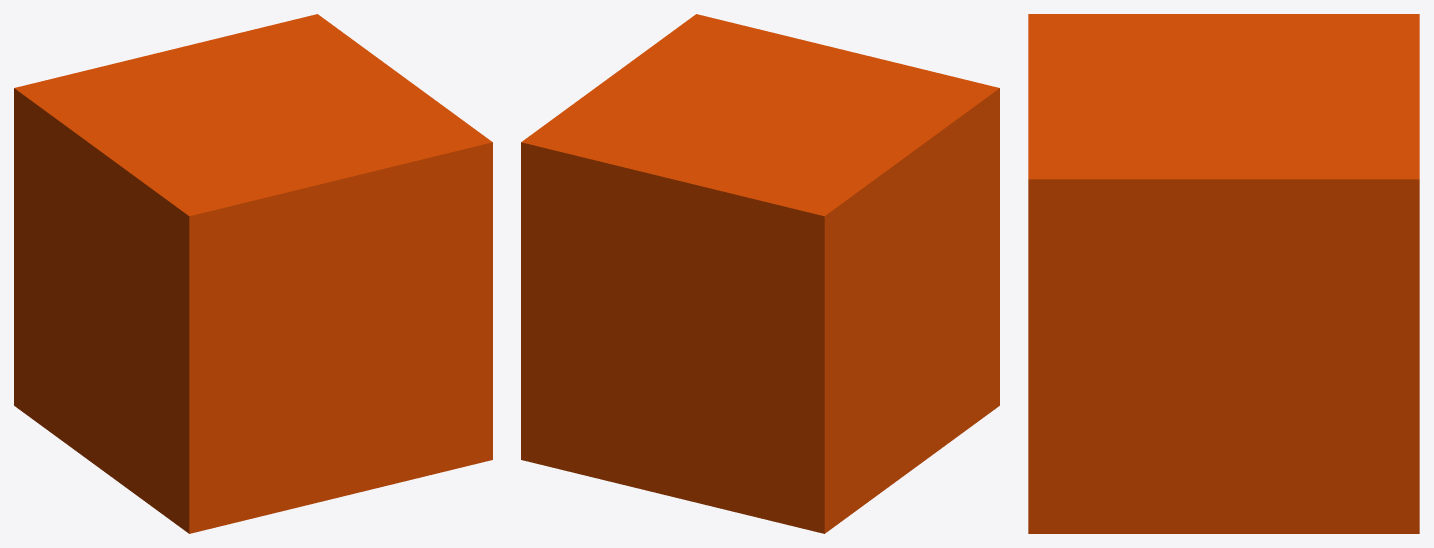
File: explode.fbx
3 renders of one model, left to right at view 1: azimuth 30°, elevation 25°; view 2: azimuth 150°, elevation 25°; view 3: azimuth 270°, elevation 25°, orthographic. The views are drawn at different scales.
Parts seen in each view (by area): view 1: pCube1; view 2: pCube1; view 3: pCube1.
Boxes of the visible parts, box(x1,y1,x2,y2) form: pCube1: box(14, 14, 492, 533); pCube1: box(521, 14, 999, 533); pCube1: box(1028, 14, 1419, 533).
Size of the model in its own units: 100 by 100 by 100.
